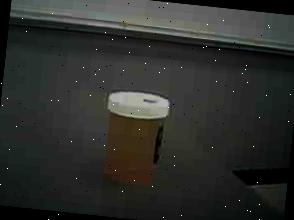Bottle B: (90, 79, 183, 197)
